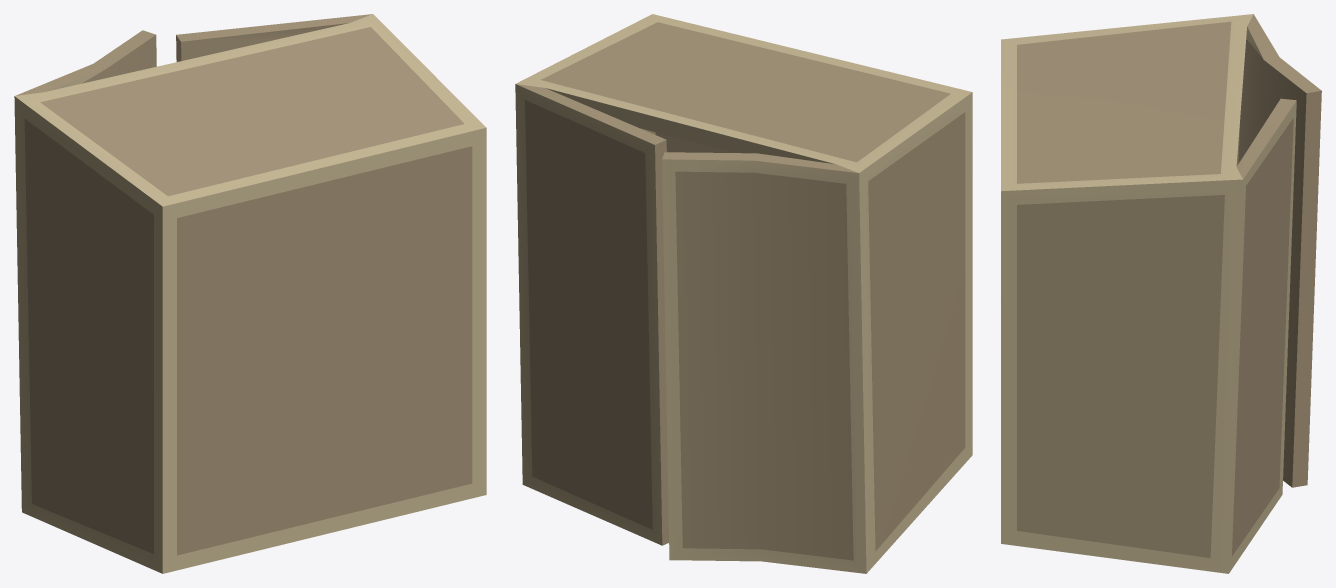
File: BoxC.fbx
3 views of the same model, side by side, from view 1: azimuth 30°, elevation 25°; view 2: azimuth 150°, elevation 25°; view 3: azimuth 270°, elevation 25° (orthographic). The views are drawn at different scales.
Parts seen in each view (by area): view 1: FloatingBoxC; view 2: FloatingBoxC; view 3: FloatingBoxC.
Part boxes in pixels (<box>): FloatingBoxC: <box>14,14,486,573</box>; FloatingBoxC: <box>515,14,972,573</box>; FloatingBoxC: <box>1001,14,1321,573</box>.
Bounding box in the file's own units: 109 × 121 × 89.37.
